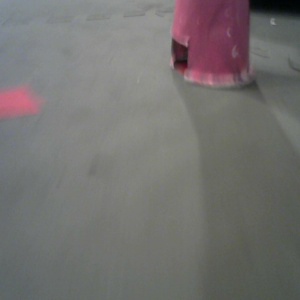right: (169, 1, 256, 86)
